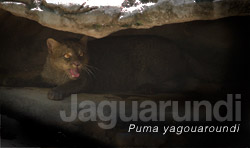Jaguarundi: (31, 34, 208, 97)
